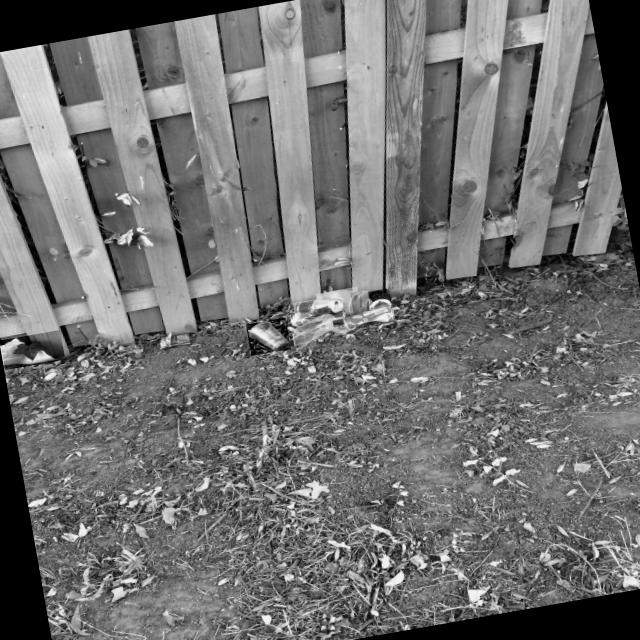Aluminium foil: (161, 336, 171, 344)
Cup: (247, 321, 289, 351), (316, 291, 357, 315)
Drink can: (340, 306, 394, 331), (294, 299, 342, 315), (368, 291, 390, 310), (291, 312, 320, 326), (324, 310, 345, 326)
Other Carton: (160, 332, 191, 349)
Other plastic bottle: (292, 313, 348, 350), (354, 291, 368, 314)
Pop tab: (340, 324, 346, 326)
Unlabeled litter: (1, 338, 64, 365), (272, 309, 294, 316), (574, 463, 590, 472)
